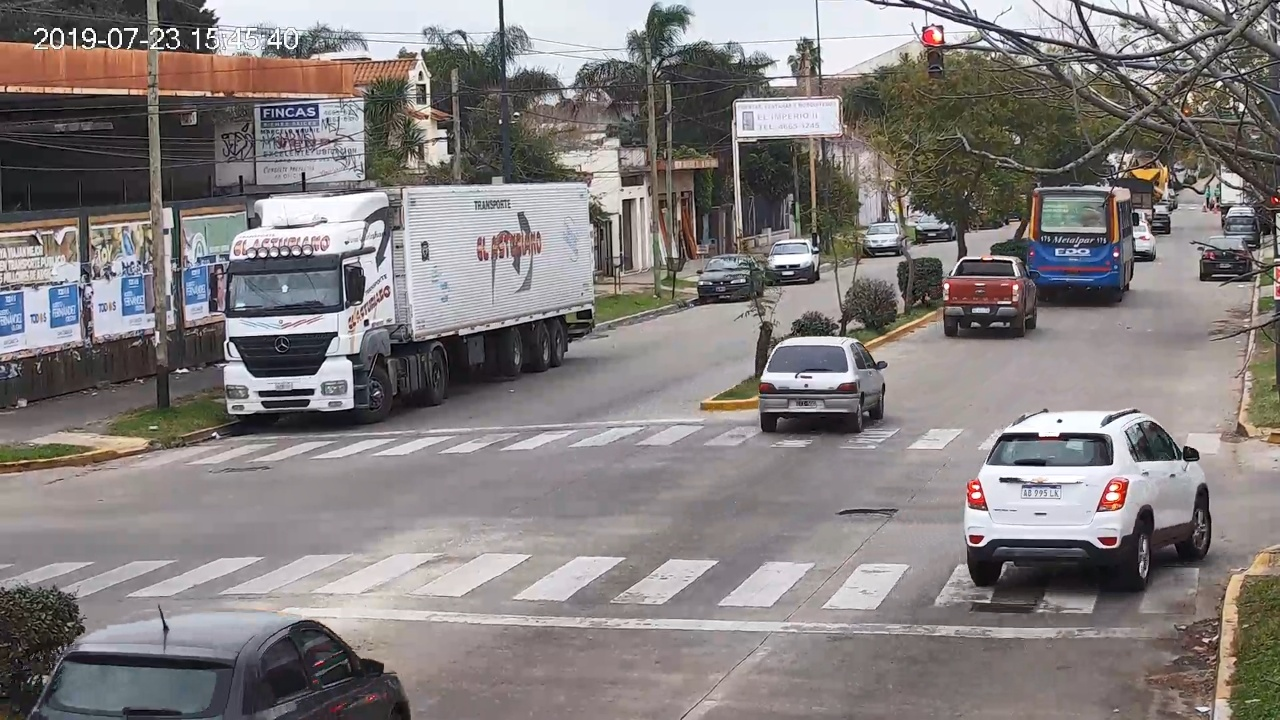car: (964, 410, 1212, 588), (32, 614, 410, 720), (759, 336, 888, 432), (943, 256, 1040, 337)
traffic light: (924, 25, 945, 76)
